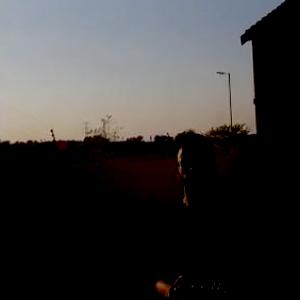follow: (146, 130, 268, 299)
